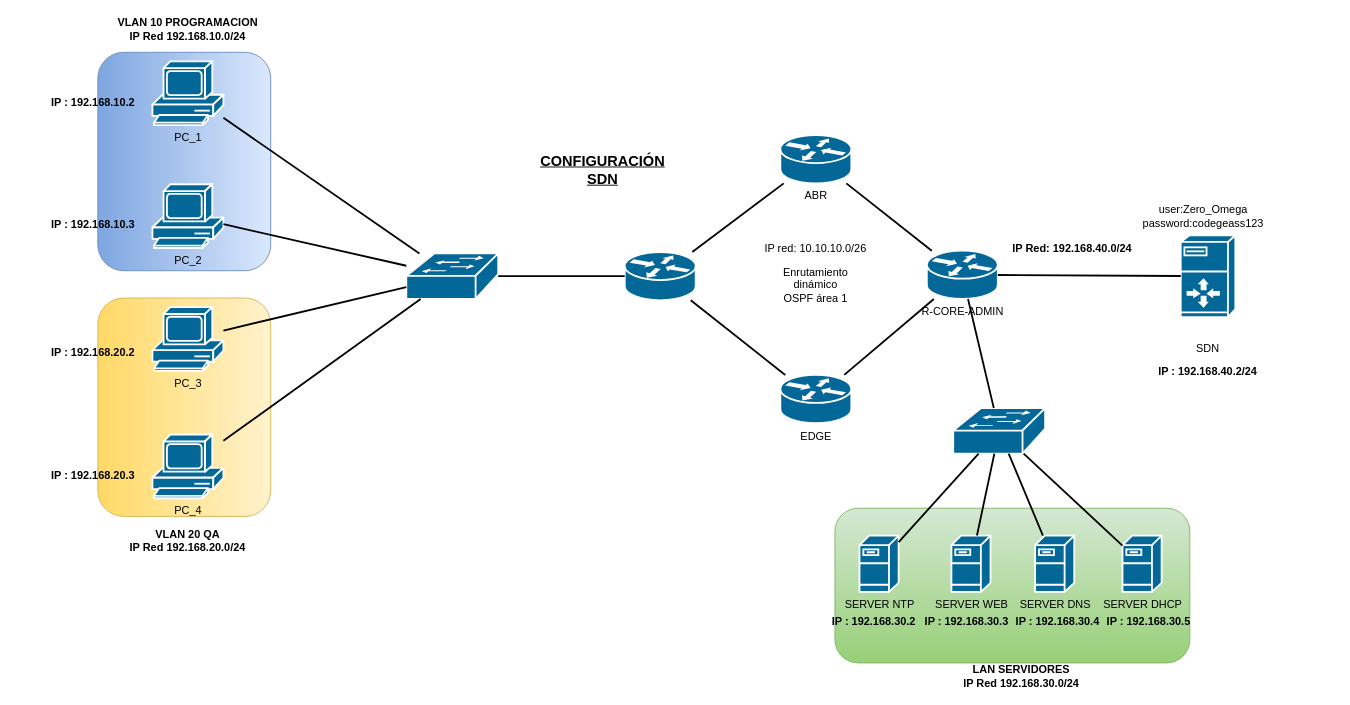
This 1350x705 diagram has some shape labels left out. Each missing label, with the centre of its shape:
Network_Controller: pixel 1207 276
R-CORE-VLANS: pixel 659 276
Switch_SV: pixel 999 430
Switch_VLANs: pixel 452 275
